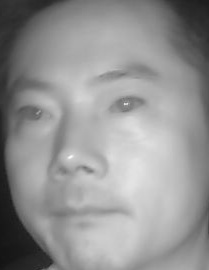eye: (12, 101, 55, 129), (106, 92, 150, 118)
mouth: (47, 191, 127, 234)
